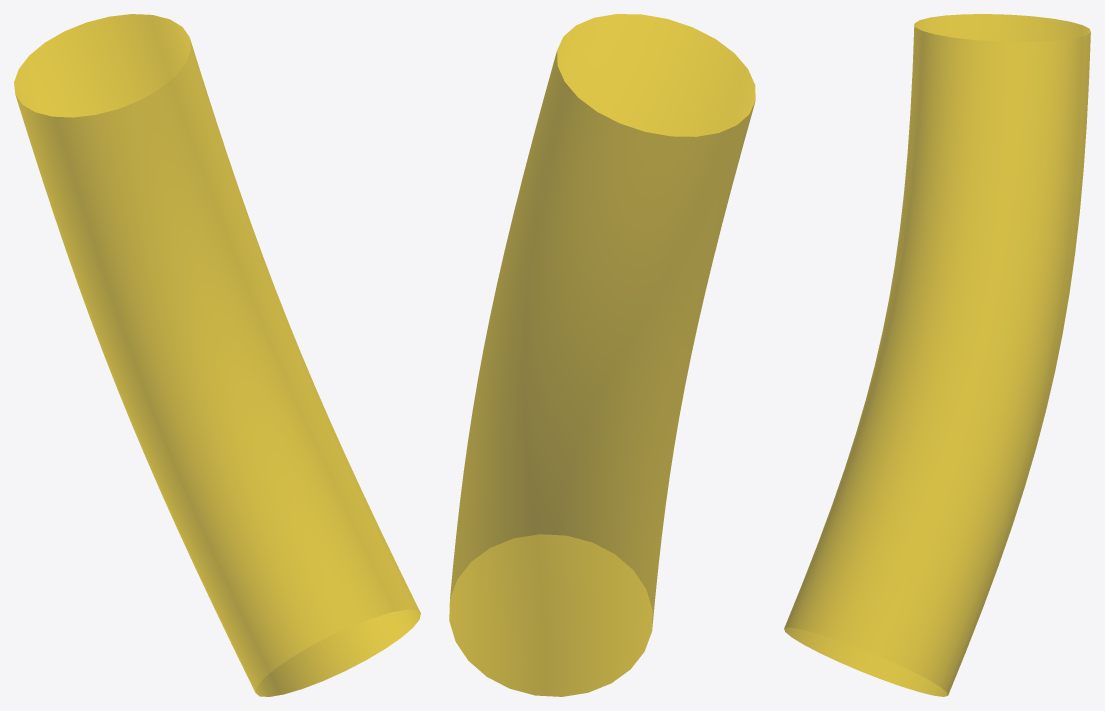
File: Event_27938768_track_51.fbx
The picture shows the model from 3 angles, left to right: view 1: azimuth 30°, elevation 25°; view 2: azimuth 150°, elevation 25°; view 3: azimuth 270°, elevation 25°; orthographic projection. The views are drawn at different scales.
Visible parts, largest first — view 1: Model; view 2: Model; view 3: Model.
Boxes of the visible parts, x1,y1,x2,y2 form: Model: [14, 14, 420, 696]; Model: [449, 14, 755, 696]; Model: [784, 14, 1090, 696].
Bounding box in the file's own units: 0.0798 × 0.1534 × 0.0692.
